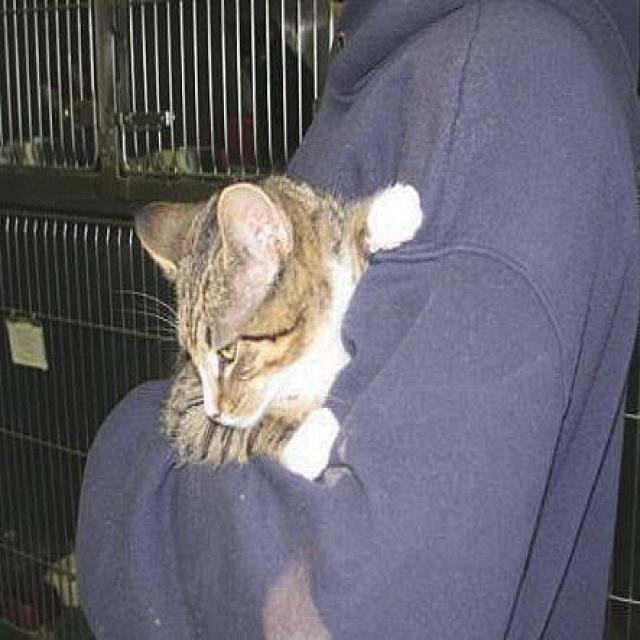cat: (95, 144, 443, 533)
